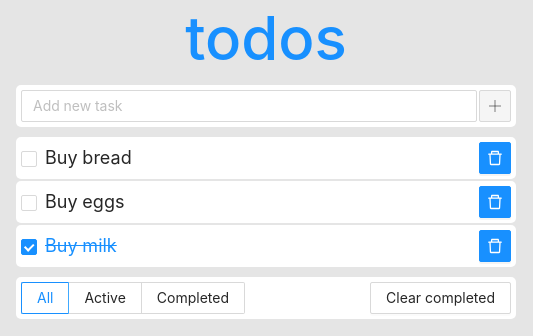
it: Todo items › Remove an item
Click the button without text in the row of "Buy bread": (495, 158) [479,142,511,174]
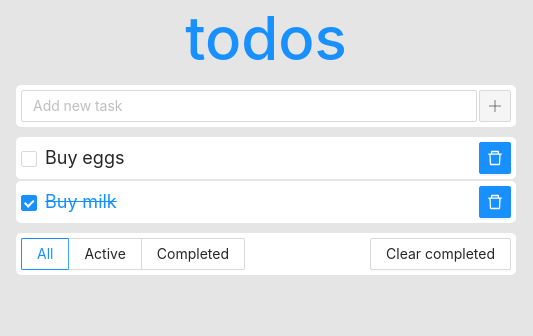
Now the number of elements with class "app__todo-item" is 2, box [16,137,516,179]; [16,181,516,223]
Now the text with class "app__todo-item" no longer shows "Buy bread"
